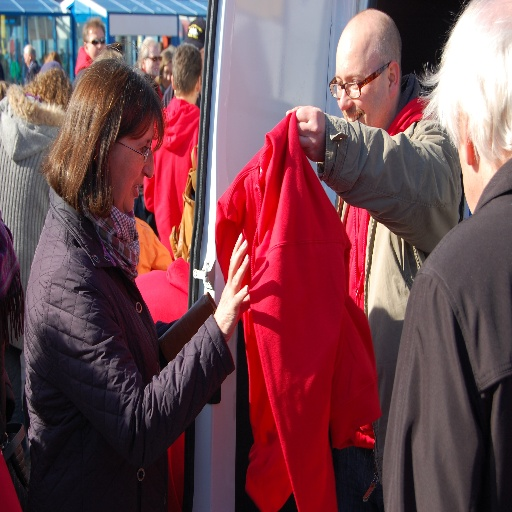hand: (216, 259, 251, 338), (285, 104, 327, 164)
